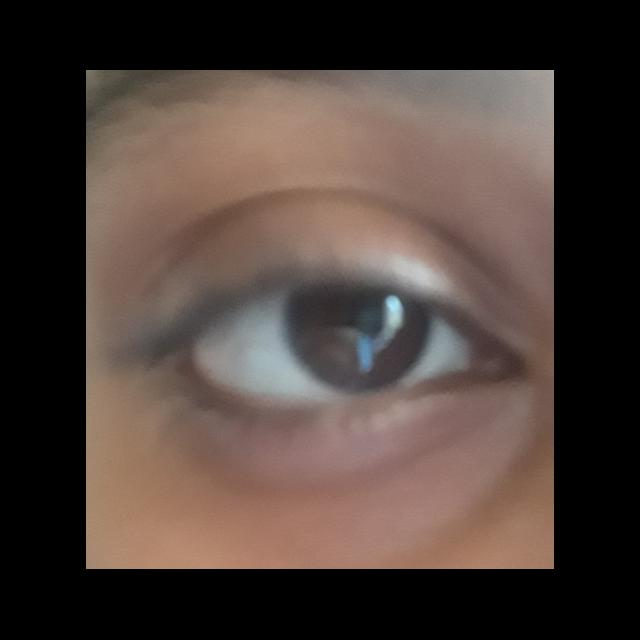eye: (191, 290, 481, 408)
iris: (278, 290, 431, 398)
